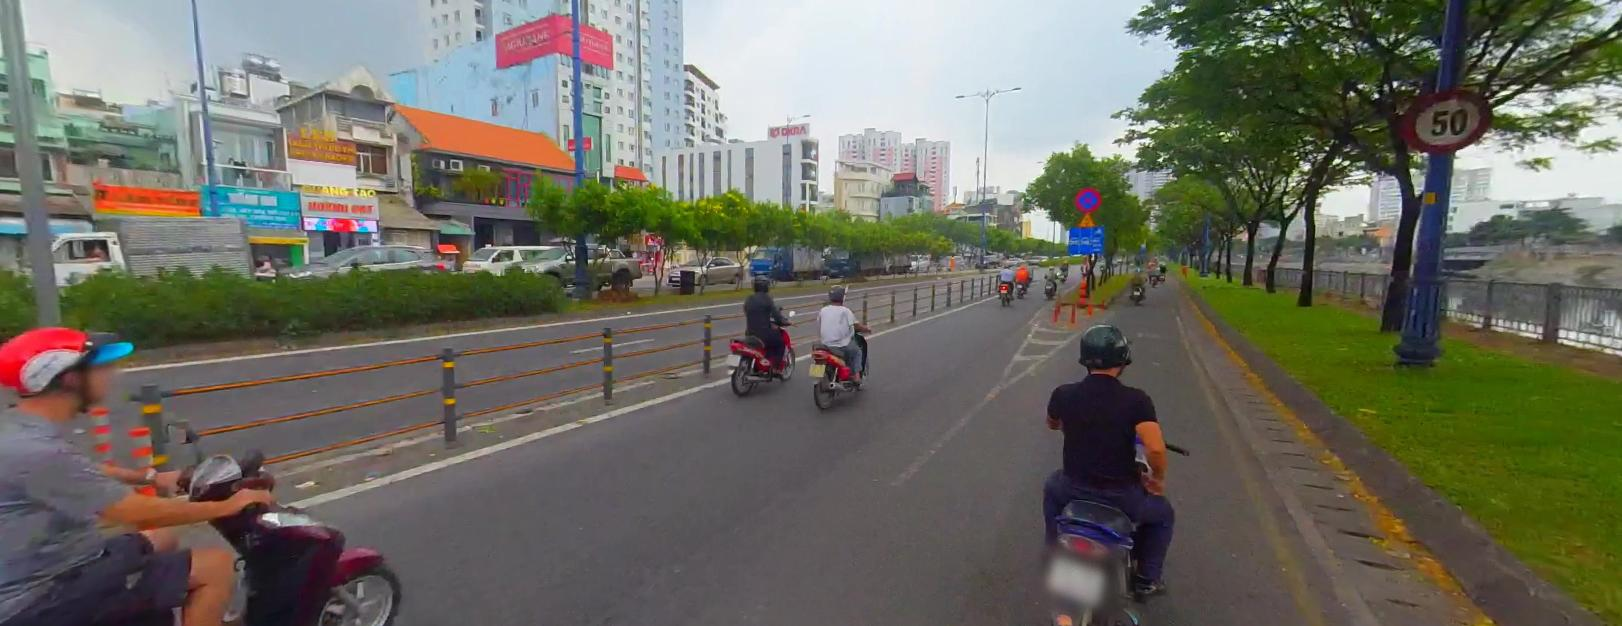Cam dung va do: (1074, 186, 1101, 210)
Gioi han toc do: (1396, 87, 1494, 151)
Hieu lenh: (1077, 210, 1095, 225)
